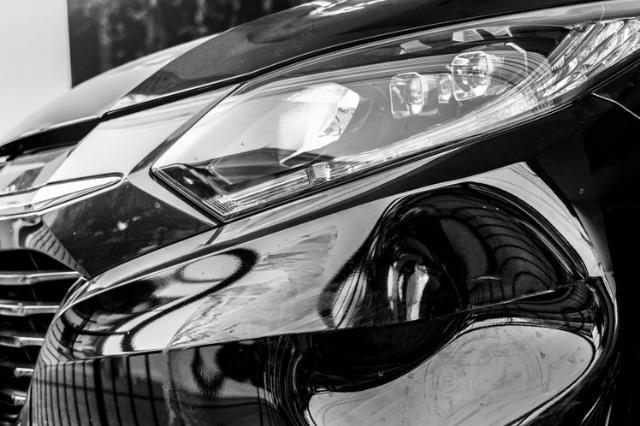Bumper: (282, 166, 631, 426)
